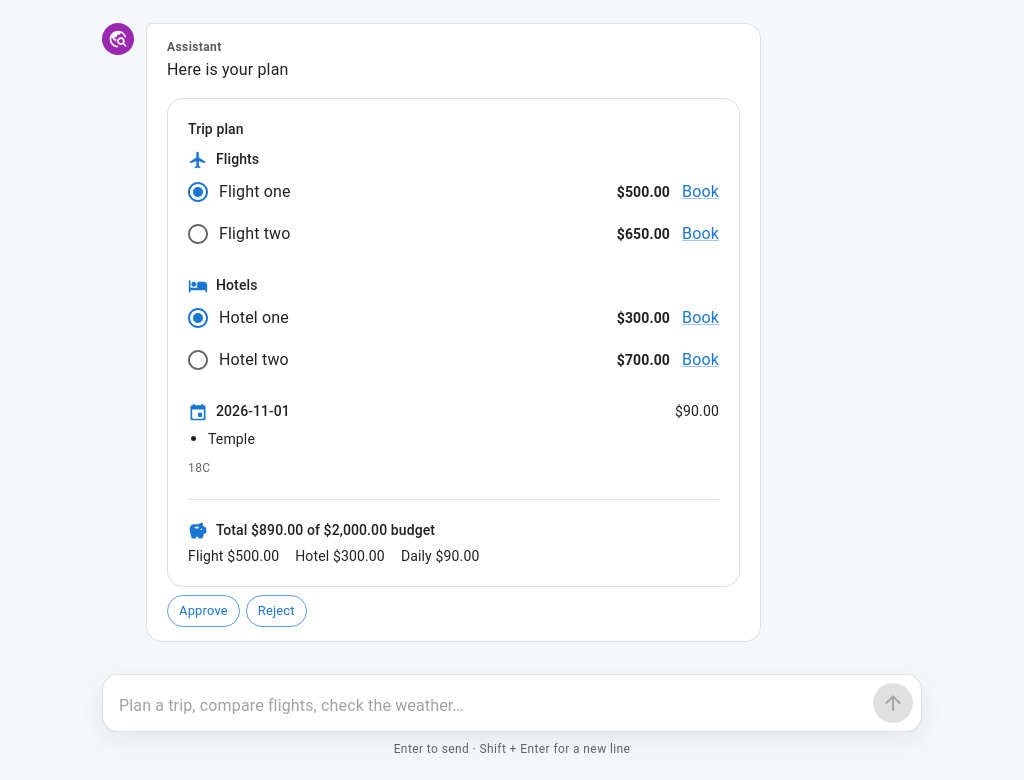
ChatPage plan card › posts the Reject pill with its action and the card id
(page scrolled)
Click the button "Reject" at (276, 611), box x1=246 y1=595 x2=307 y2=627
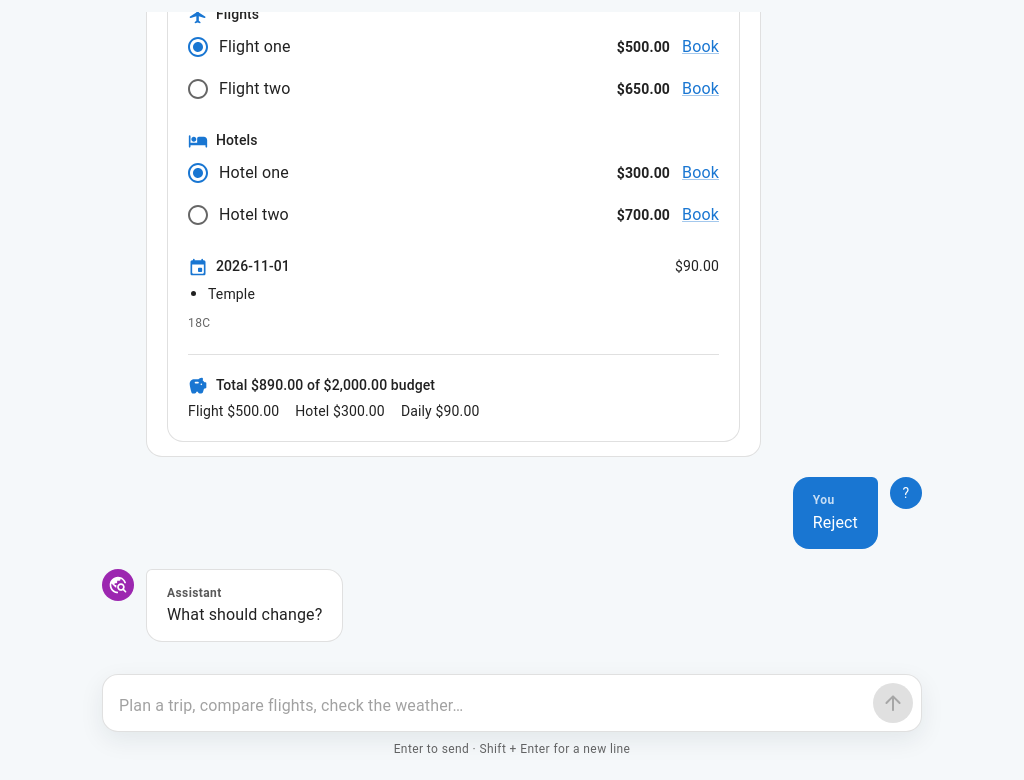
Result: the text "What should change?" is shown at x1=167 y1=604 x2=322 y2=628
